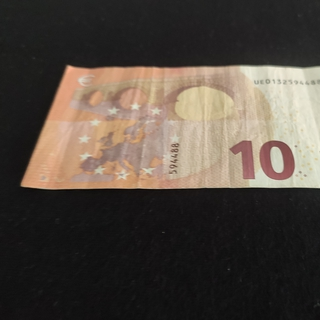10EUROBack: (20, 64, 320, 190)
